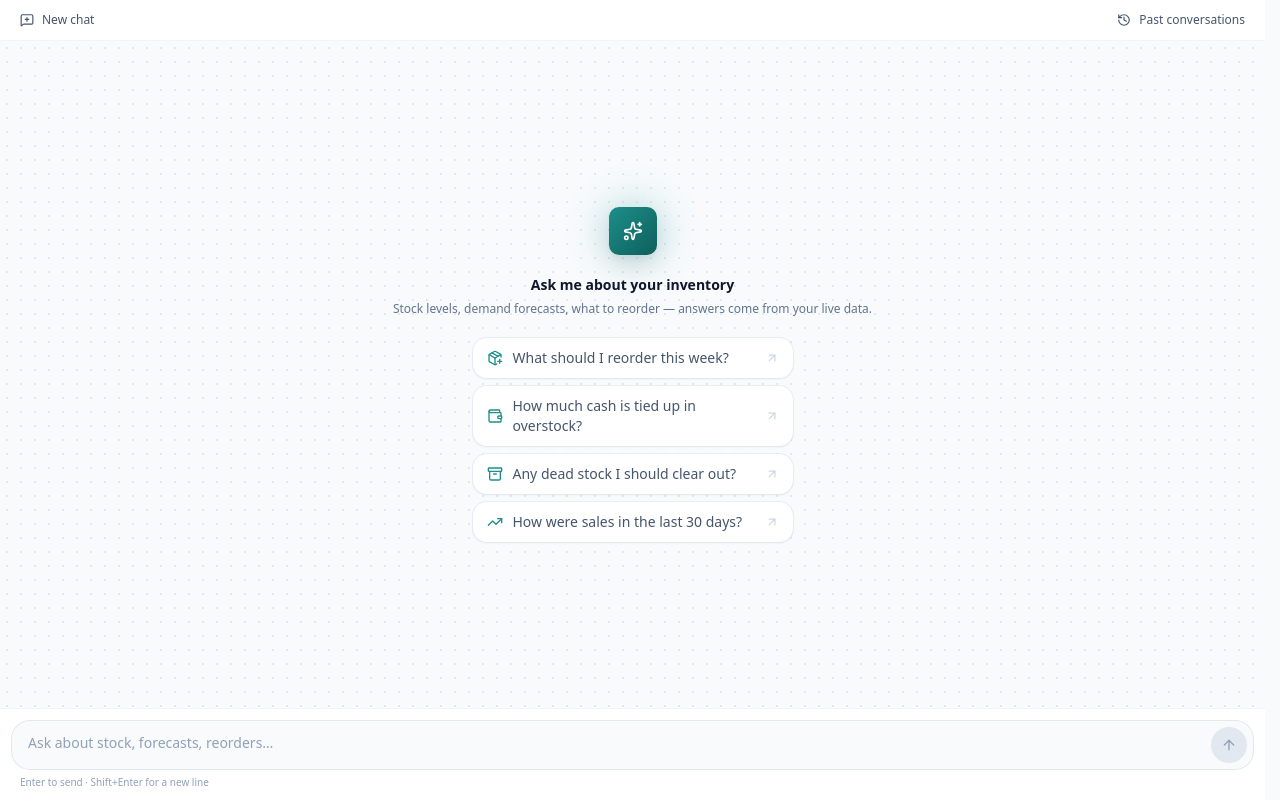
Test: ChatPanel › shows the backend error and withdraws the optimistic bubble on failure
Type "hello" into the text box named "Message the assistant". click: (612, 745)
box: [18,727,1205,763]
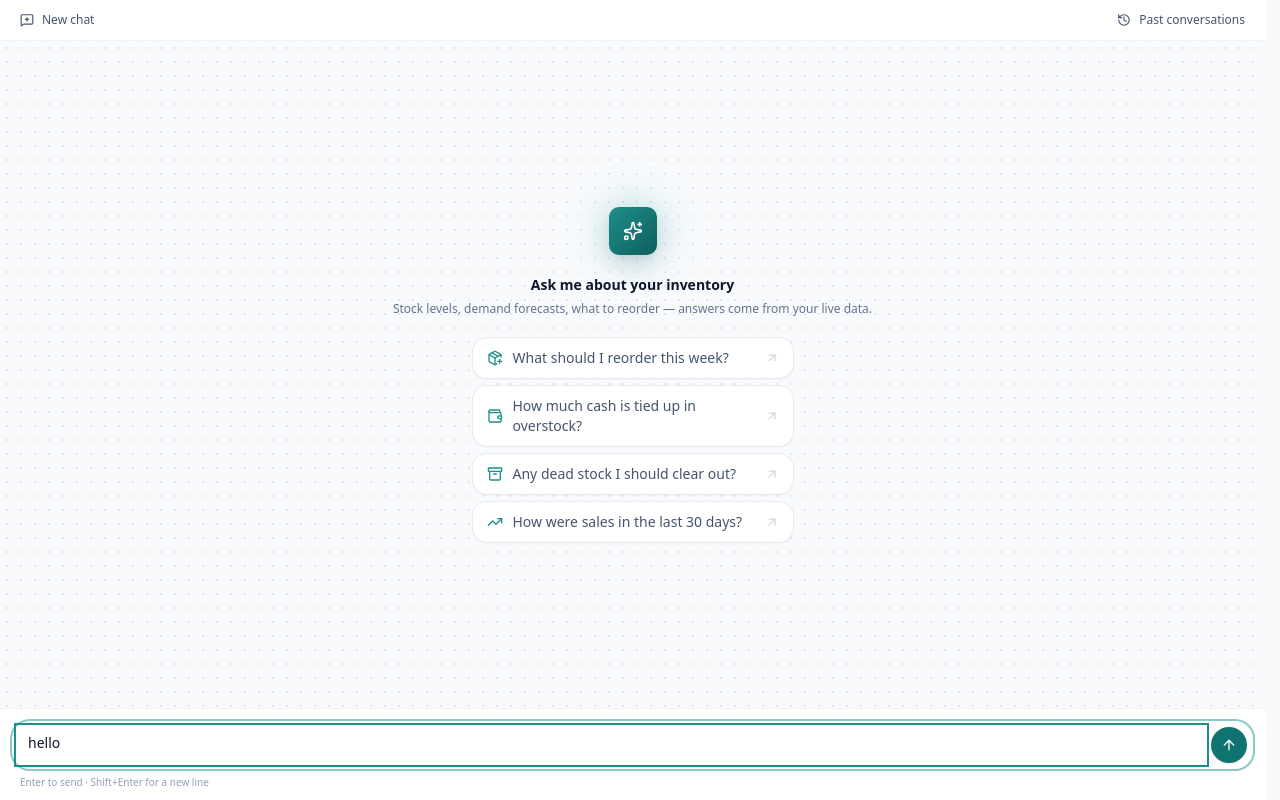
Click the button named "Send message". click: (1229, 745)
box: [1211,727,1247,763]
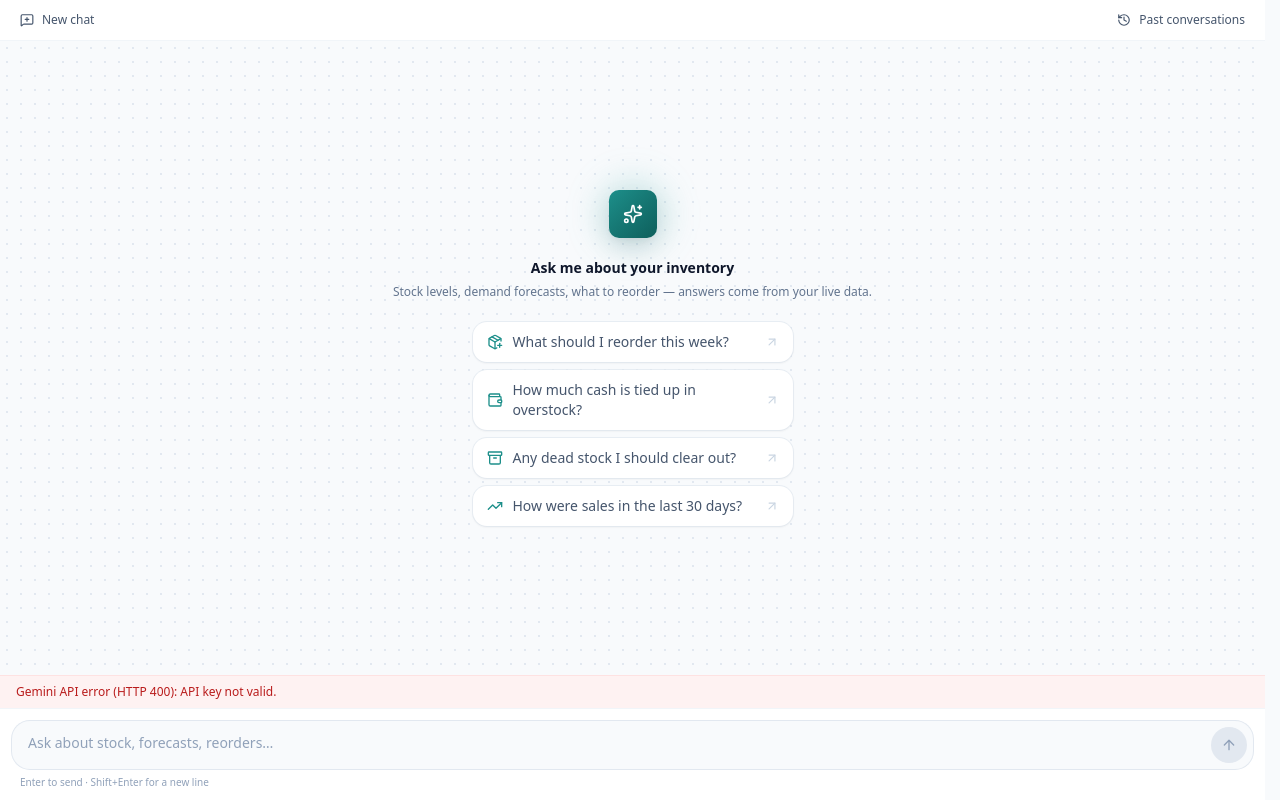
Expected: the text "hello" is not shown
Now the message shows "API key not valid", box [16,683,276,700]
